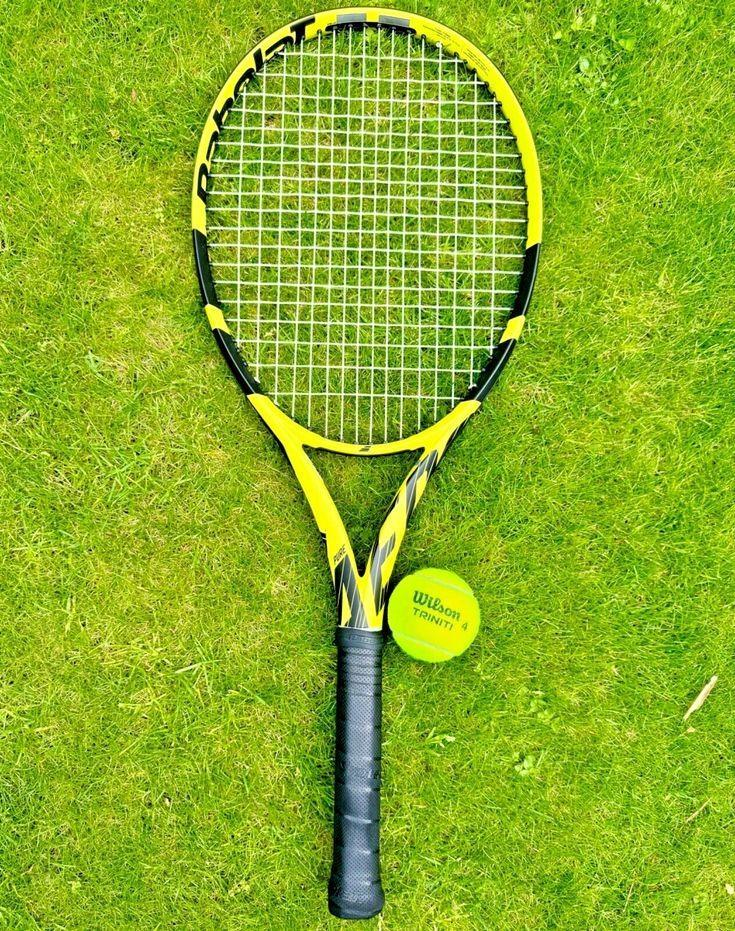Tennis-Racket: (192, 8, 548, 914)
